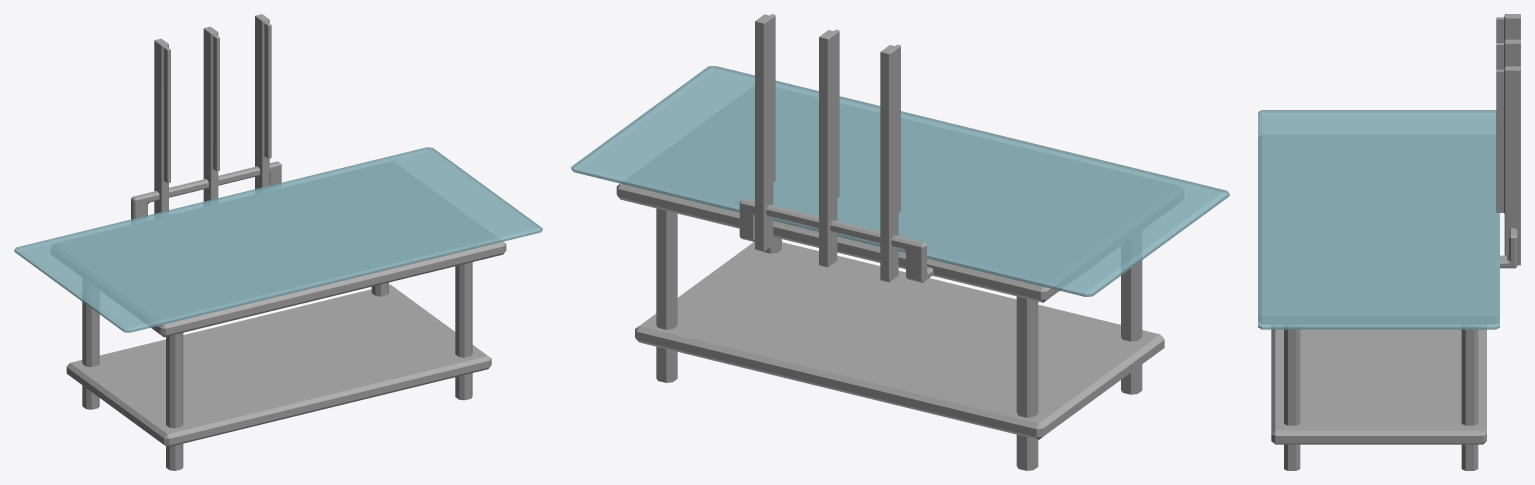
Rendered from SM_Bancone_Vetro.fbx.
3 views of the same model, side by side, from view 1: azimuth 30°, elevation 25°; view 2: azimuth 150°, elevation 25°; view 3: azimuth 270°, elevation 25° (orthographic). The views are drawn at different scales.
Parts seen in each view (by area): view 1: SM_Bancone_Vetro, SM_Lama2, SM_Lama3, SM_Lama1; view 2: SM_Bancone_Vetro, SM_Lama2, SM_Lama3, SM_Lama1; view 3: SM_Bancone_Vetro, SM_Lama1, SM_Lama2, SM_Lama3.
Boxes of the visible parts, box(x1,y1,x2,y2) form: SM_Bancone_Vetro: box(14, 147, 542, 470); SM_Lama2: box(203, 26, 219, 201); SM_Lama3: box(154, 38, 170, 213); SM_Lama1: box(255, 14, 271, 189); SM_Bancone_Vetro: box(571, 66, 1229, 470); SM_Lama2: box(819, 29, 839, 267); SM_Lama3: box(880, 44, 900, 282); SM_Lama1: box(755, 14, 775, 251); SM_Bancone_Vetro: box(1258, 110, 1517, 470); SM_Lama1: box(1496, 66, 1520, 265); SM_Lama2: box(1496, 39, 1520, 69); SM_Lama3: box(1496, 14, 1520, 42).
Bounding box in the file's own units: 0.0289 × 0.0216 × 0.0148.
